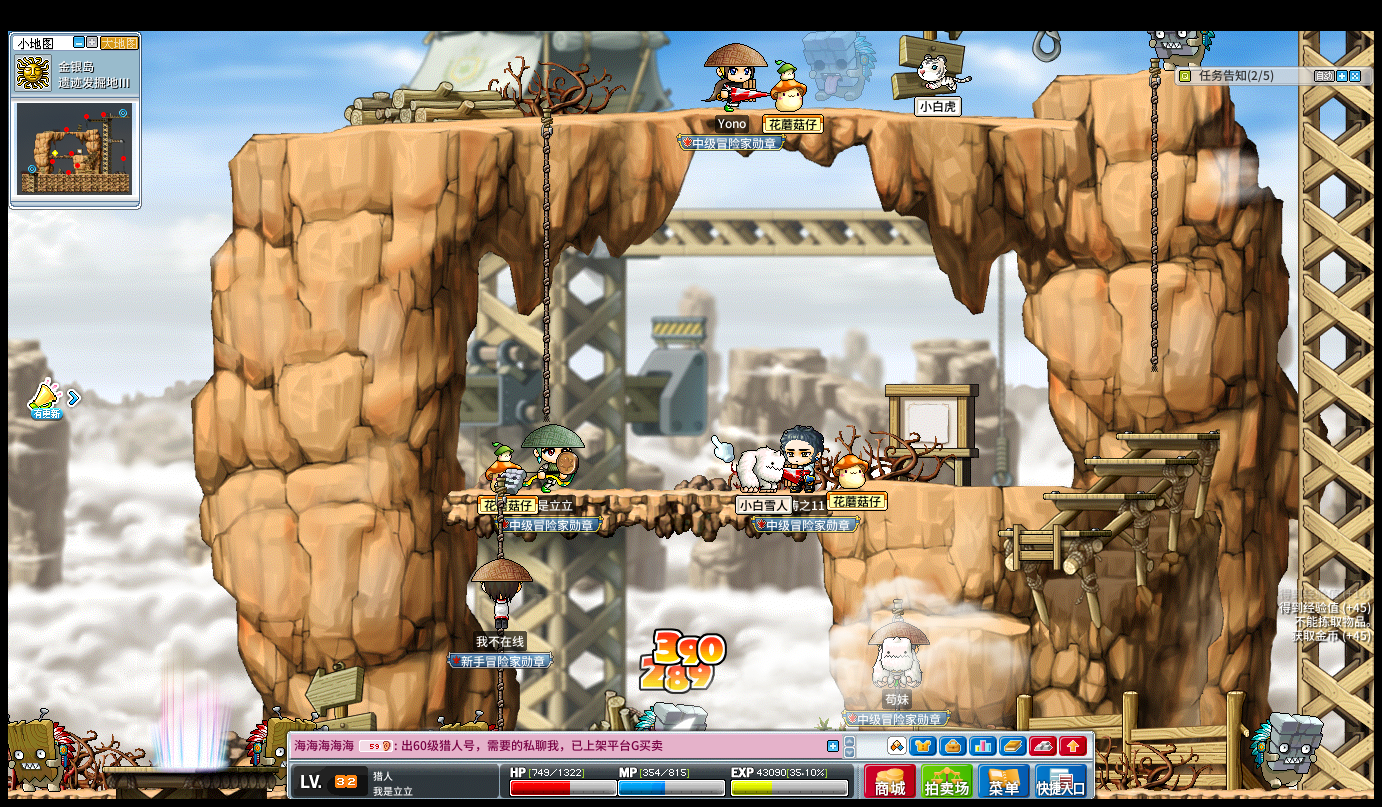floor: (250, 103, 1089, 139), (450, 488, 821, 499), (918, 613, 1029, 635), (904, 482, 1076, 492), (1052, 67, 1170, 81), (1114, 429, 1221, 441), (1077, 455, 1194, 464), (1041, 492, 1154, 500), (996, 528, 1108, 536)
monster: (1248, 712, 1322, 791), (3, 713, 76, 792), (807, 29, 877, 107)
rope: (1146, 53, 1160, 377), (540, 107, 551, 419), (492, 497, 504, 559), (494, 668, 503, 723)
